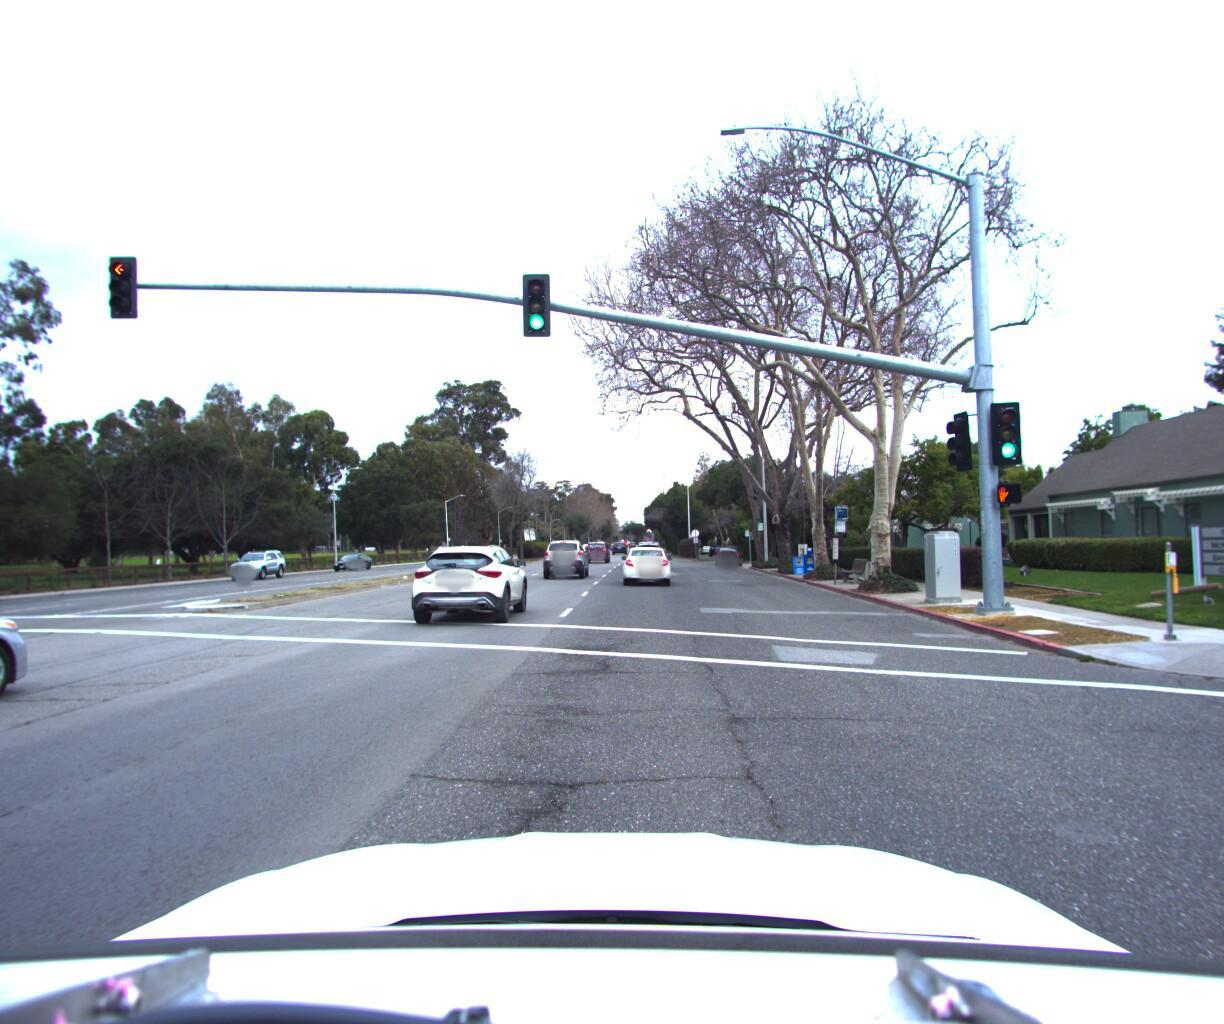car: (0, 547, 58, 807), (408, 540, 533, 625), (621, 541, 671, 586), (226, 543, 292, 577), (539, 533, 588, 578), (329, 548, 375, 567), (582, 532, 609, 556), (714, 538, 740, 560)
